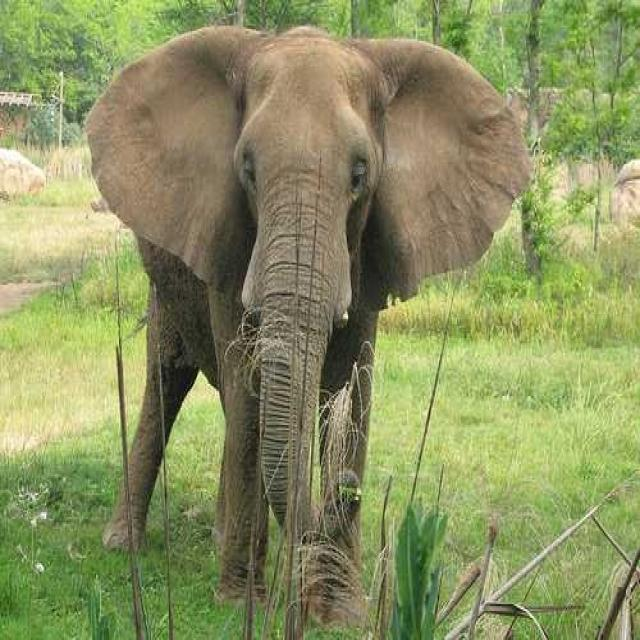Elephant: (82, 22, 534, 621)
